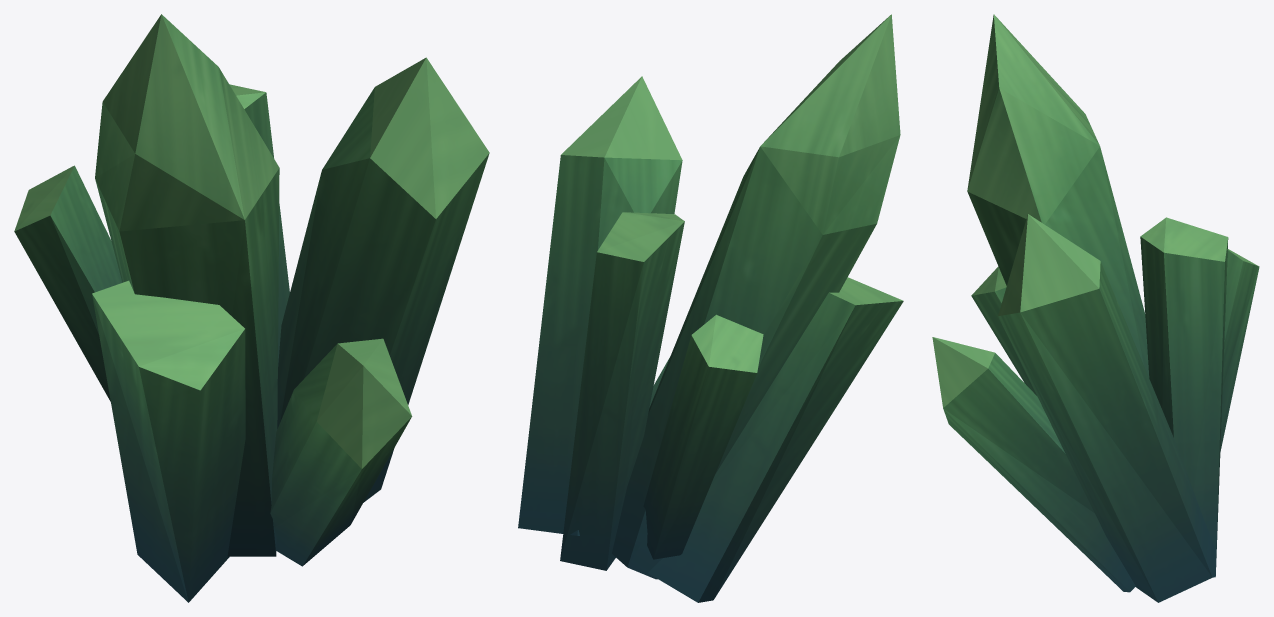
Rendered from Crystal2.fbx.
3 views of the same model, side by side, from view 1: azimuth 30°, elevation 25°; view 2: azimuth 150°, elevation 25°; view 3: azimuth 270°, elevation 25° (orthographic). The views are drawn at different scales.
Visible parts, largest first — view 1: Crystal2; view 2: Crystal2; view 3: Crystal2.
Boxes of the visible parts, x1,y1,x2,y2 form: Crystal2: (14, 14, 489, 602); Crystal2: (518, 14, 903, 602); Crystal2: (932, 14, 1259, 602).
Bounding box in the file's own units: 64.14 × 116 × 67.61.
Materials: 1 (1 with a texture image).
